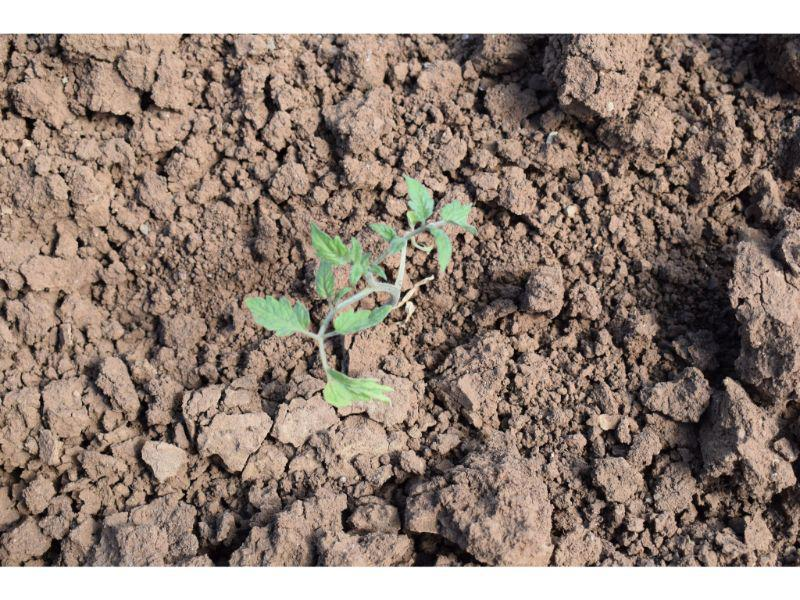tomato: (246, 173, 479, 403)
